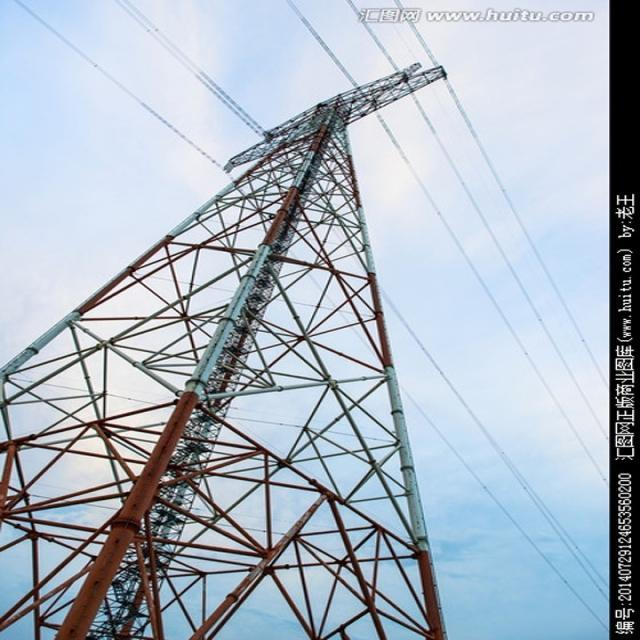non-critical vegetation: (18, 73, 518, 561)
